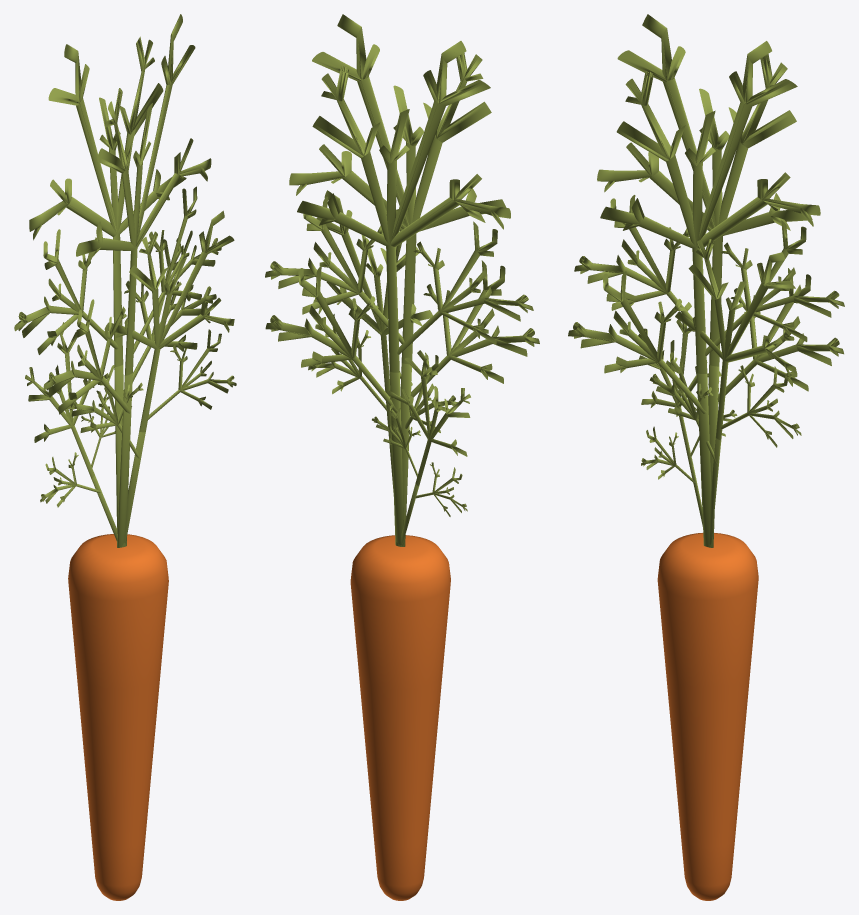
The model's file is carrot.fbx.
3 renders of one model, left to right at view 1: azimuth 30°, elevation 25°; view 2: azimuth 150°, elevation 25°; view 3: azimuth 330°, elevation 25°, orthographic.
Parts seen in each view (by area): view 1: carrot; view 2: carrot; view 3: carrot.
Part boxes in pixels (x1=…): carrot: x1=14, y1=14, x2=236, y2=900; carrot: x1=265, y1=14, x2=539, y2=900; carrot: x1=568, y1=14, x2=844, y2=900.
Size of the model in its own units: 113 by 396 by 50.57.
